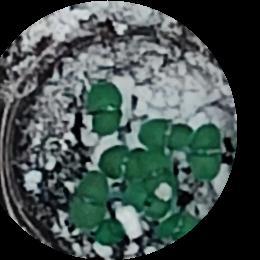Basil: (68, 174, 112, 224), (91, 84, 123, 136), (142, 114, 194, 145), (99, 145, 150, 173), (196, 125, 220, 183), (124, 188, 162, 215), (100, 220, 125, 245)
